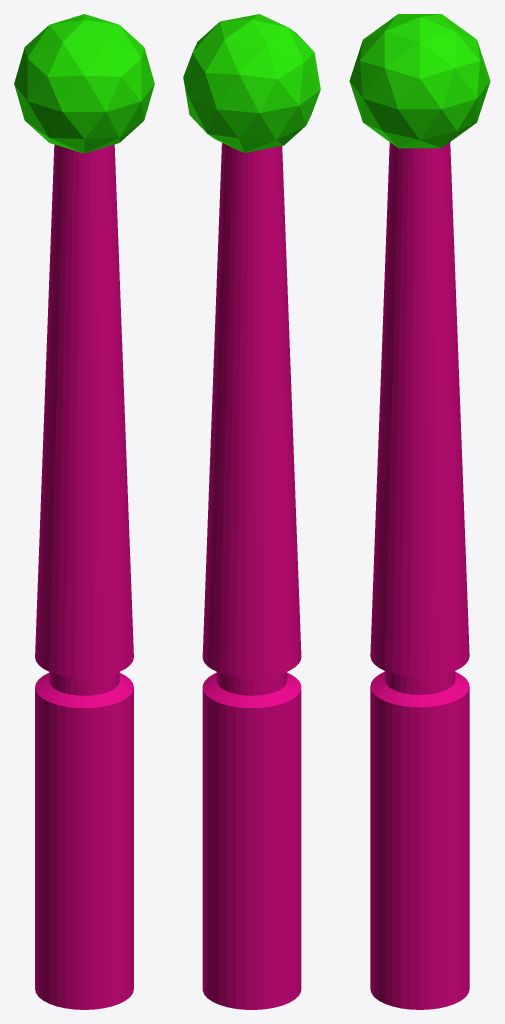
Rendered from Wand.glb.
3 renders of one model, left to right at view 1: azimuth 90°, elevation 25°; view 2: azimuth 150°, elevation 25°; view 3: azimuth 270°, elevation 25°, orthographic.
Parts seen in each view (by area): view 1: Coord_Wand; view 2: Coord_Wand; view 3: Coord_Wand.
Part boxes in pixels (left/top/right/bottom): Coord_Wand: left=14, top=14, right=154, bottom=1009; Coord_Wand: left=183, top=14, right=320, bottom=1009; Coord_Wand: left=349, top=14, right=490, bottom=1009.
Size of the model in its own units: 0.0804 by 0.6423 by 0.0845.
